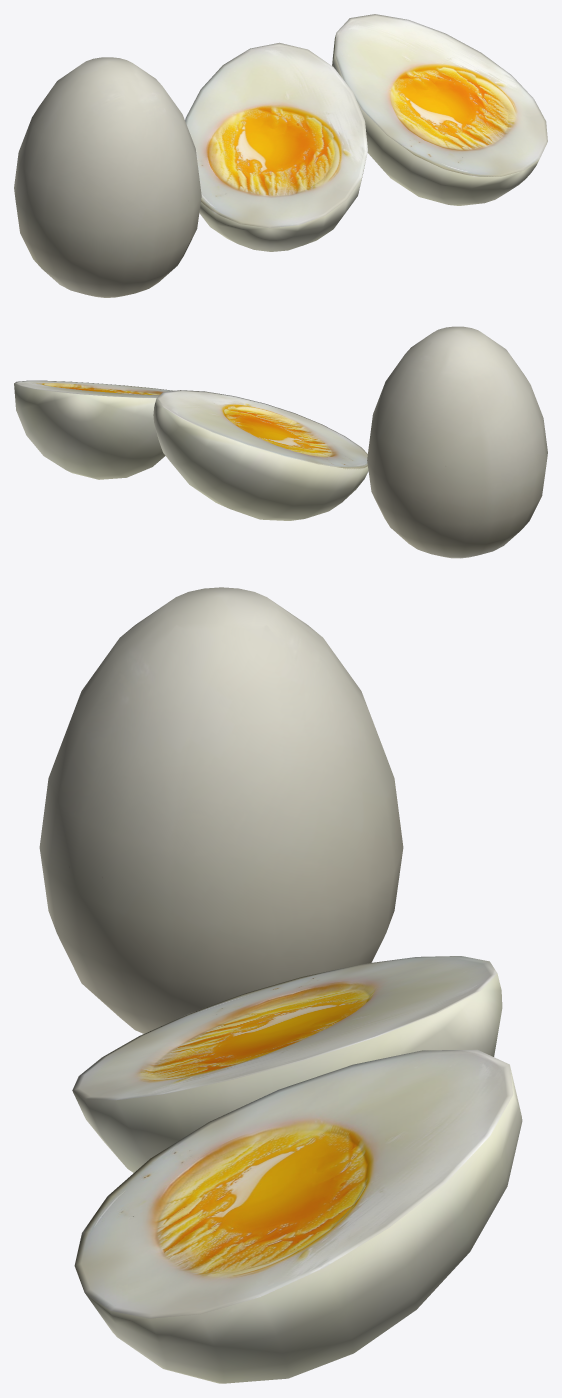
The model's file is Telur Tanpa Cangkang.fbx.
3 views of the same model, one above another, from view 1: azimuth 30°, elevation 25°; view 2: azimuth 150°, elevation 25°; view 3: azimuth 270°, elevation 25° (orthographic). The views are drawn at different scales.
Parts seen in each view (by area): view 1: potongan telur, Telur Tanpa Cangkang; view 2: Telur Tanpa Cangkang, potongan telur; view 3: potongan telur, Telur Tanpa Cangkang.
Boxes of the visible parts, left/top/right/bottom form: potongan telur: left=185, top=14, right=547, bottom=251; Telur Tanpa Cangkang: left=14, top=57, right=201, bottom=297; Telur Tanpa Cangkang: left=367, top=326, right=547, bottom=558; potongan telur: left=14, top=380, right=368, bottom=520; potongan telur: left=72, top=956, right=522, bottom=1383; Telur Tanpa Cangkang: left=39, top=587, right=403, bottom=1033.
Bounding box in the file's own units: 12.5 × 5.26 × 5.23.
Materials: 2 (2 with a texture image).
